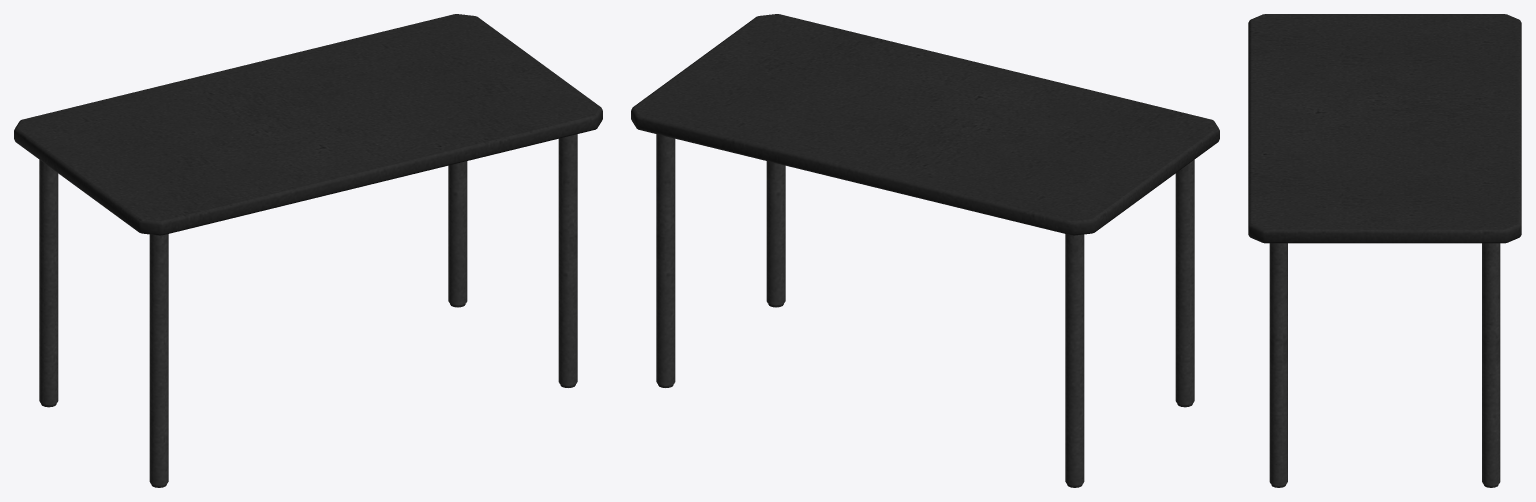
Rendered from table_large_2.obj.
The picture shows the model from 3 angles, left to right: view 1: azimuth 30°, elevation 25°; view 2: azimuth 150°, elevation 25°; view 3: azimuth 270°, elevation 25°; orthographic projection. The views are drawn at different scales.
Visible parts, largest first — view 1: table_large_2; view 2: table_large_2; view 3: table_large_2.
Part boxes in pixels (x1,y1,x2,y2): table_large_2: (14,14,602,487); table_large_2: (631,14,1219,487); table_large_2: (1248,14,1521,487).
Size of the model in its own units: 1.7 by 0.97 by 0.9.
